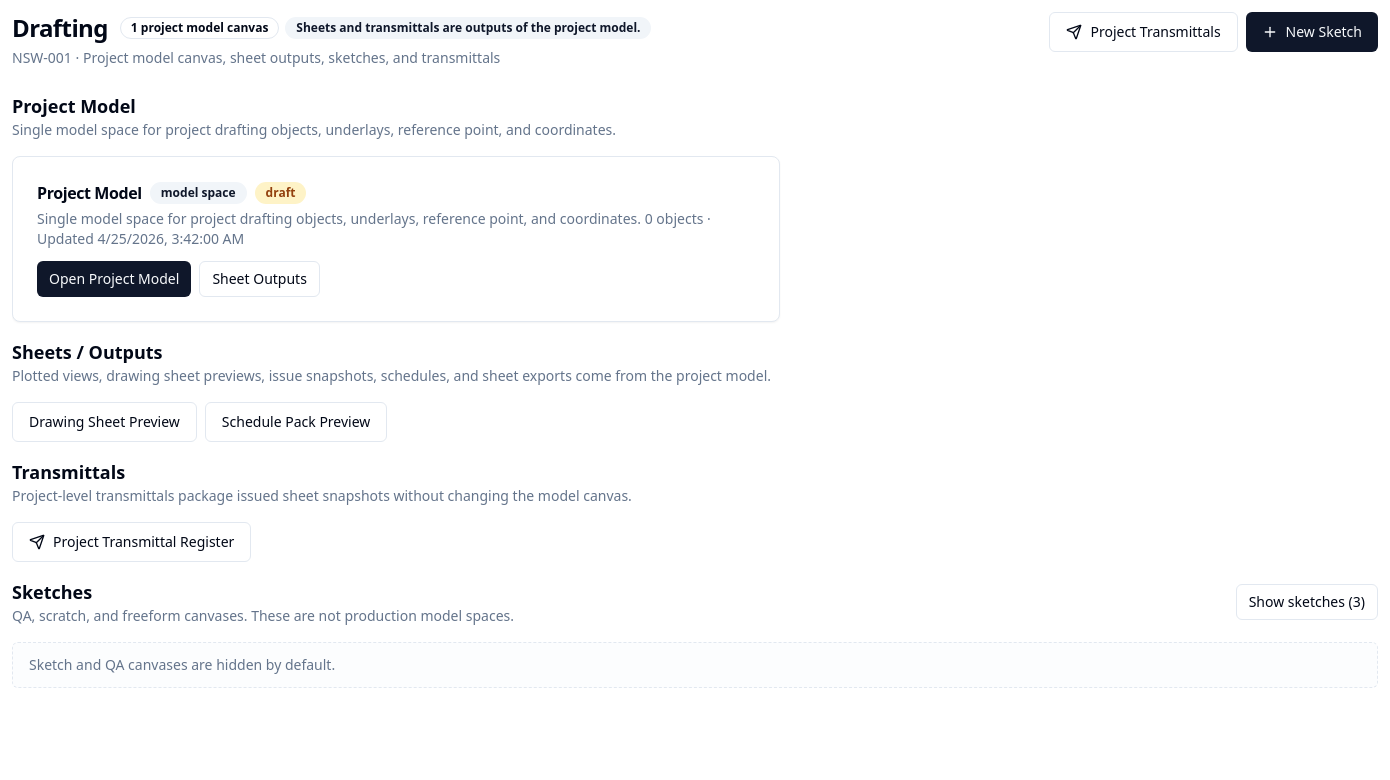
Test: DraftingRegister project model architecture › reveals sketches and archived sketches in a non-production section
The image size is (1390, 780).
Click the button "Show sketches (3)": (1307, 602) x1=1236 y1=584 x2=1378 y2=620
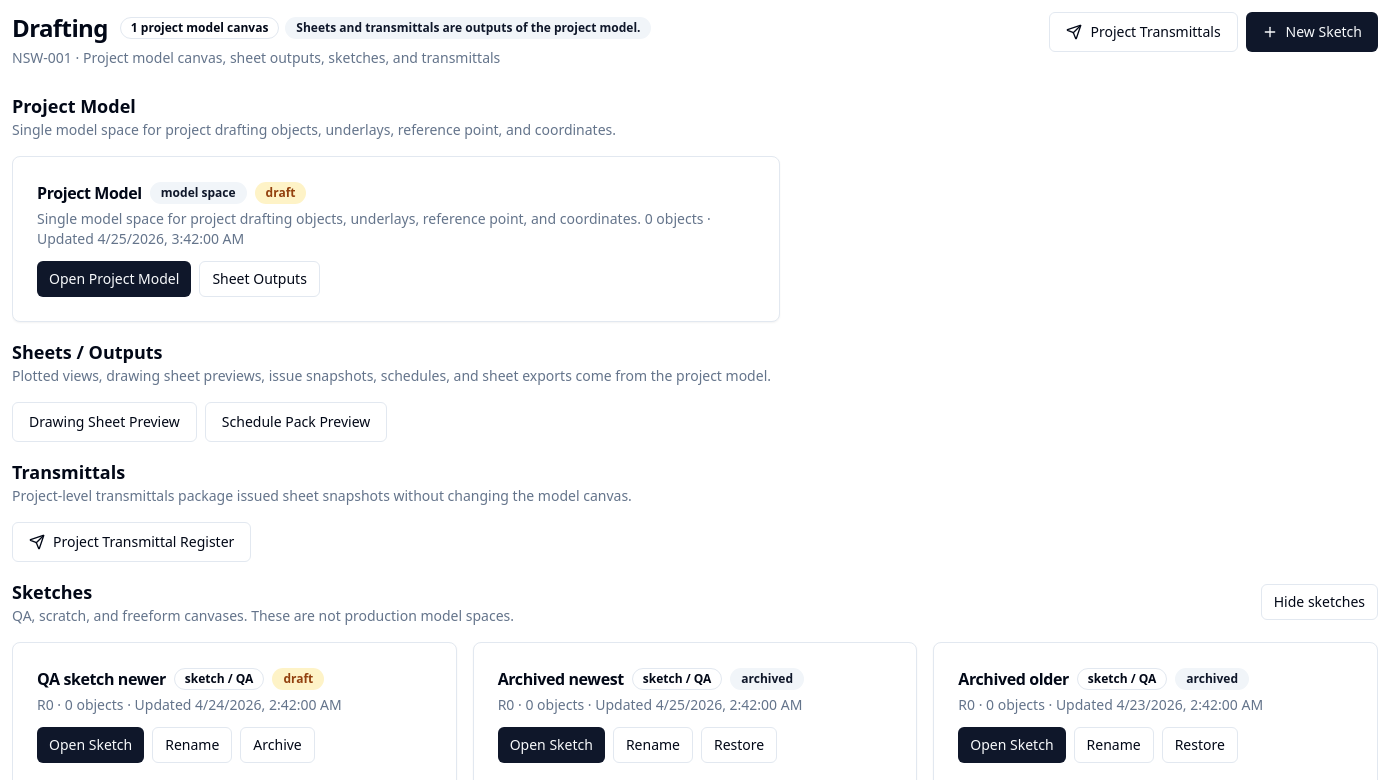
Expected: the text "sketch / QA" is shown, x1=174 y1=668 x2=264 y2=690
Expected: the text "QA sketch newer" is shown, x1=37 y1=667 x2=166 y2=691
Expected: the text "Archived newest" is shown, x1=498 y1=667 x2=624 y2=691
